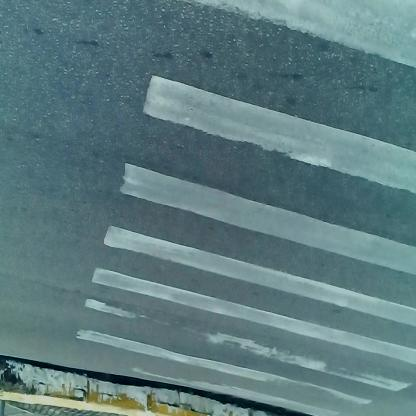crosswalk: (75, 1, 416, 356)
sidewalk: (6, 382, 275, 416)
